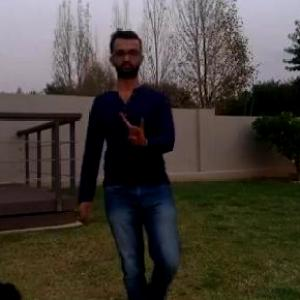takeoff-hand: (117, 106, 150, 148)
